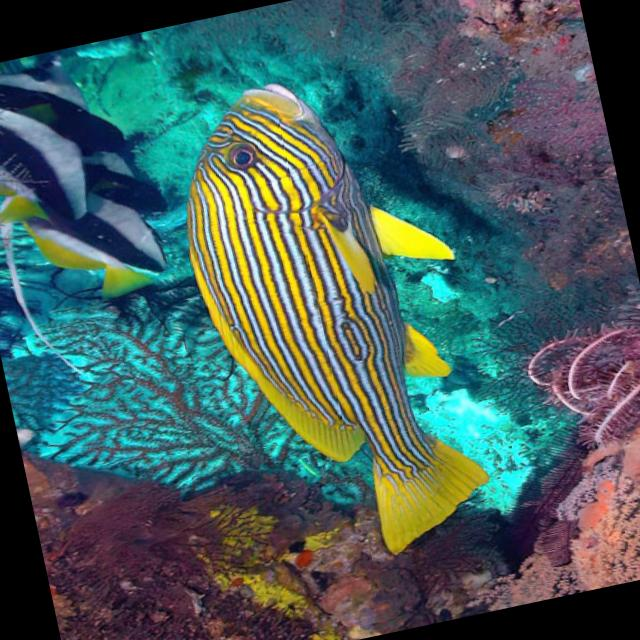RibbonedSweetlips: (153, 51, 513, 585)
